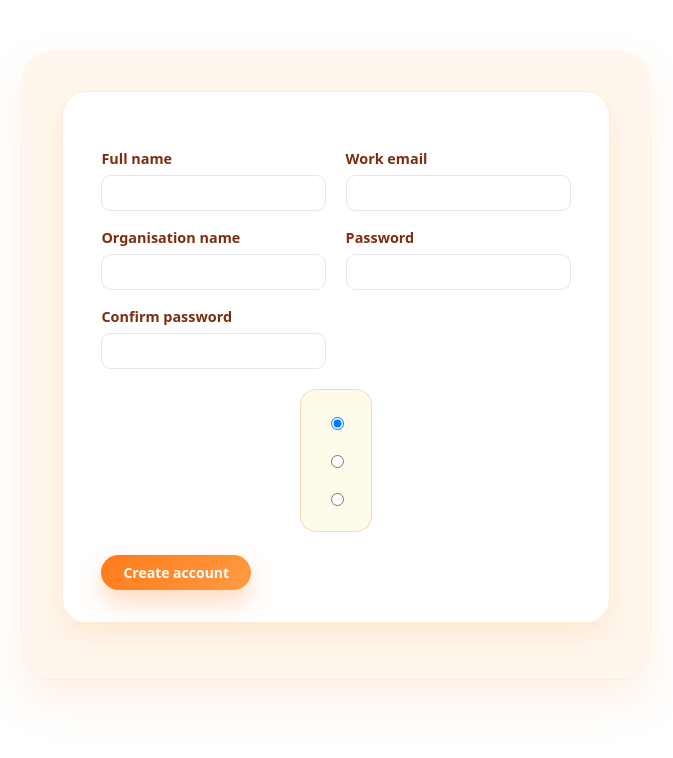
initRegister – validation & submit › shows error when password too short
Type "John Doe" into the field with id "fullName" at (214, 193), box [101,174,326,211]
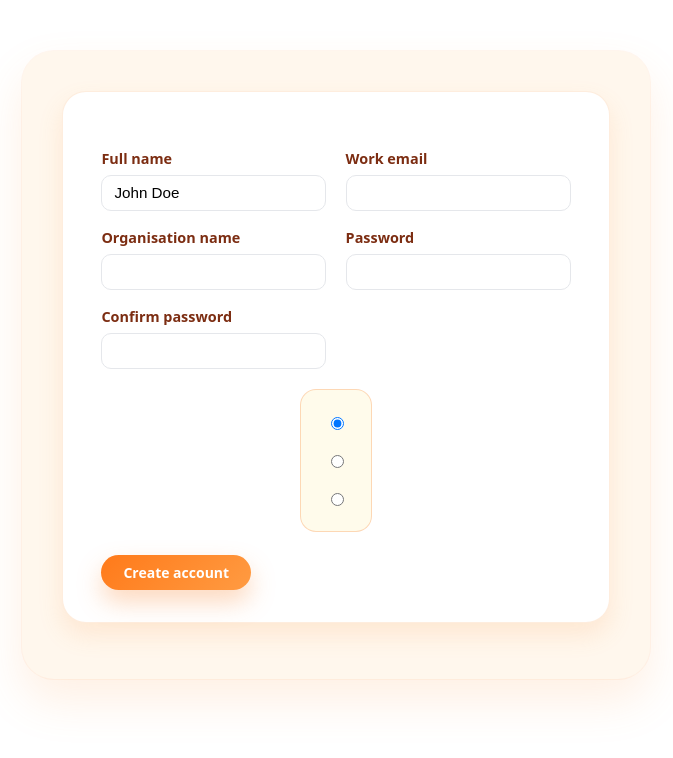
Type "john@example.com" into the field with id "email" at (458, 193), box [346,174,571,211]
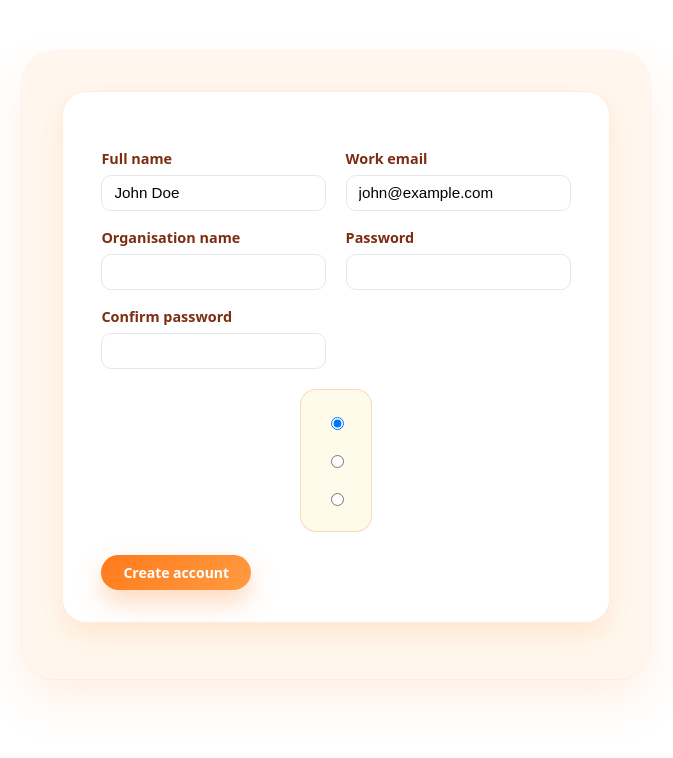
Type "ACME" into the field with id "organisation" at (214, 272), box [101,254,326,290]
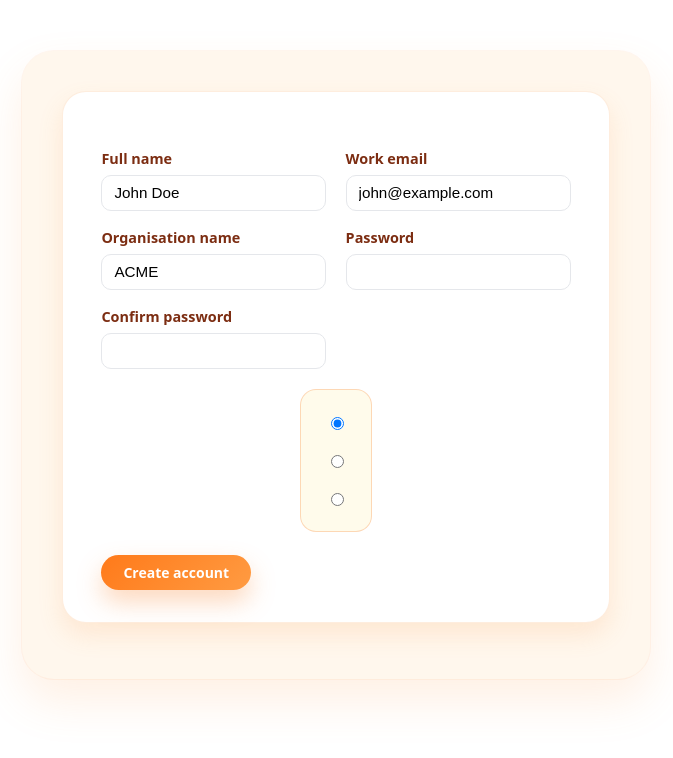
Type "short" into the password field labelled "Password" at (458, 272), box [346,254,571,290]
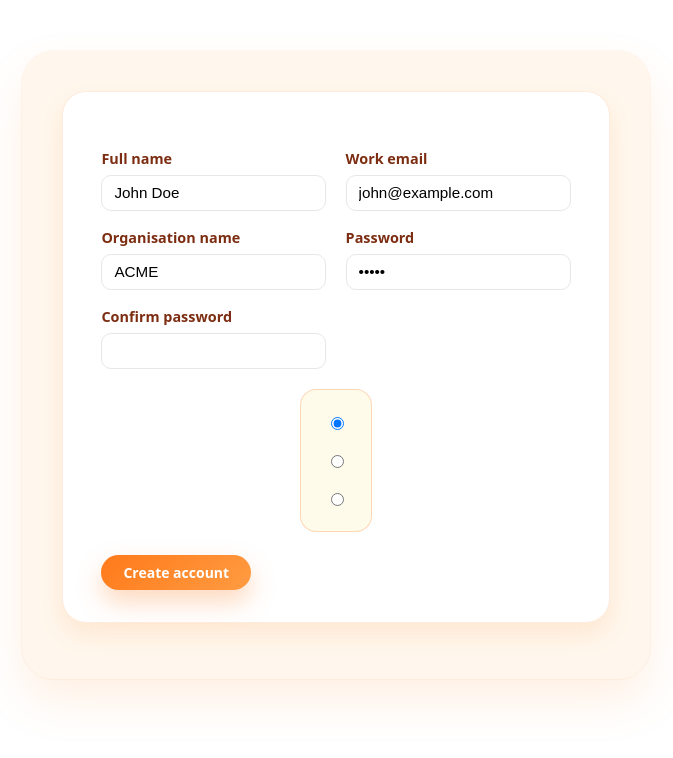
Type "short" into the password field with id "confirmPassword" at (214, 351), box [101,332,326,369]
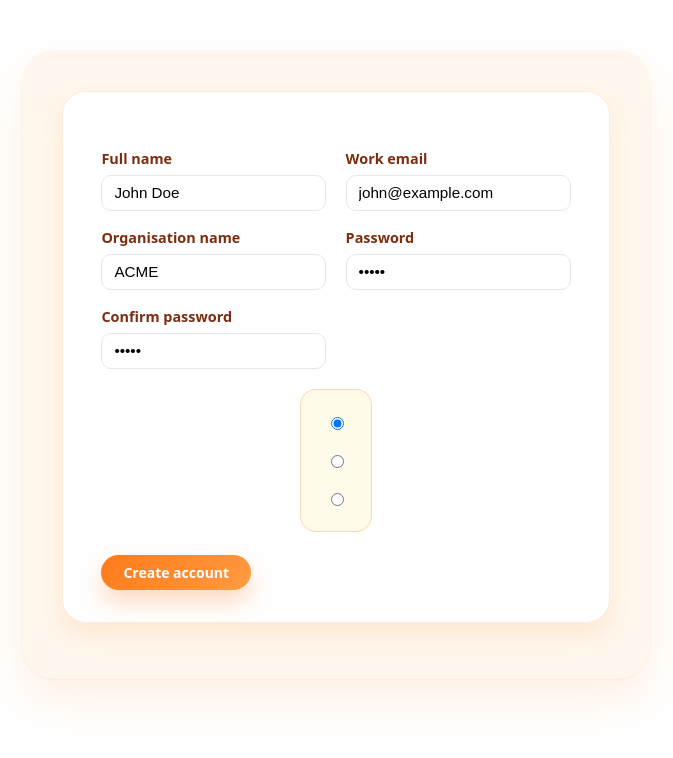
Submit the form with id "register-form", box [101,148,571,590]
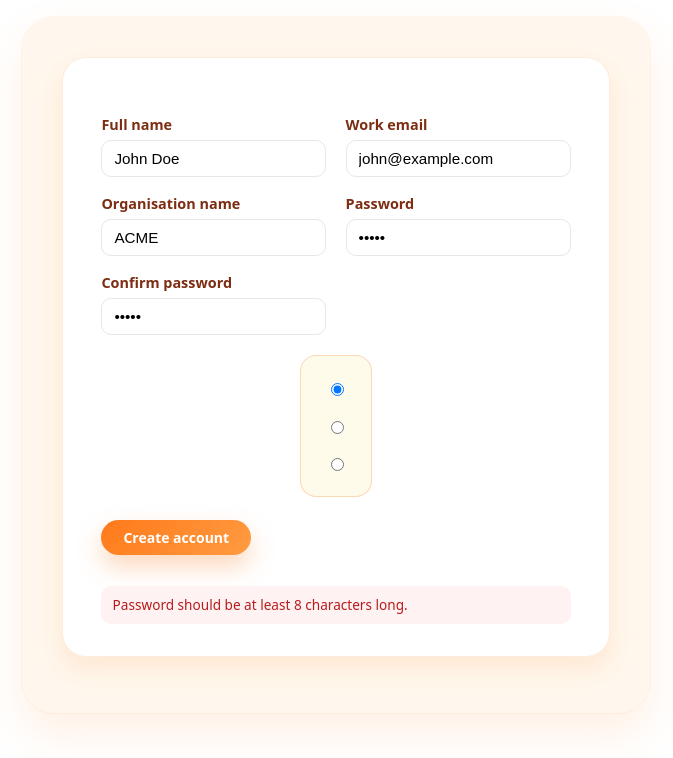
expect the text with id "register-error" reads "Password should be at least 8 characters long.": met, box [113,595,408,614]
